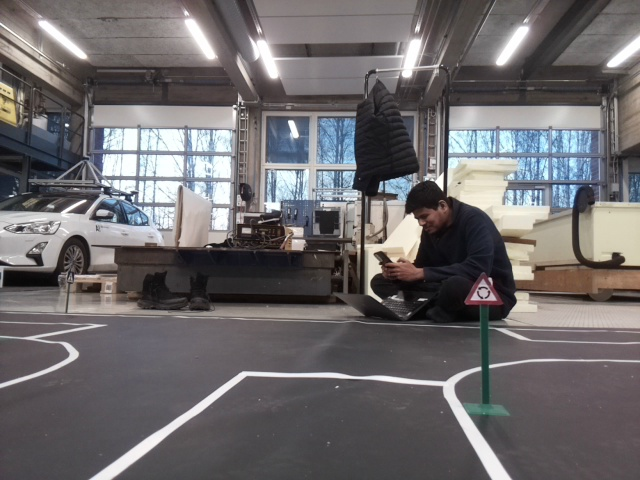Roundabout: (462, 273, 503, 305)
